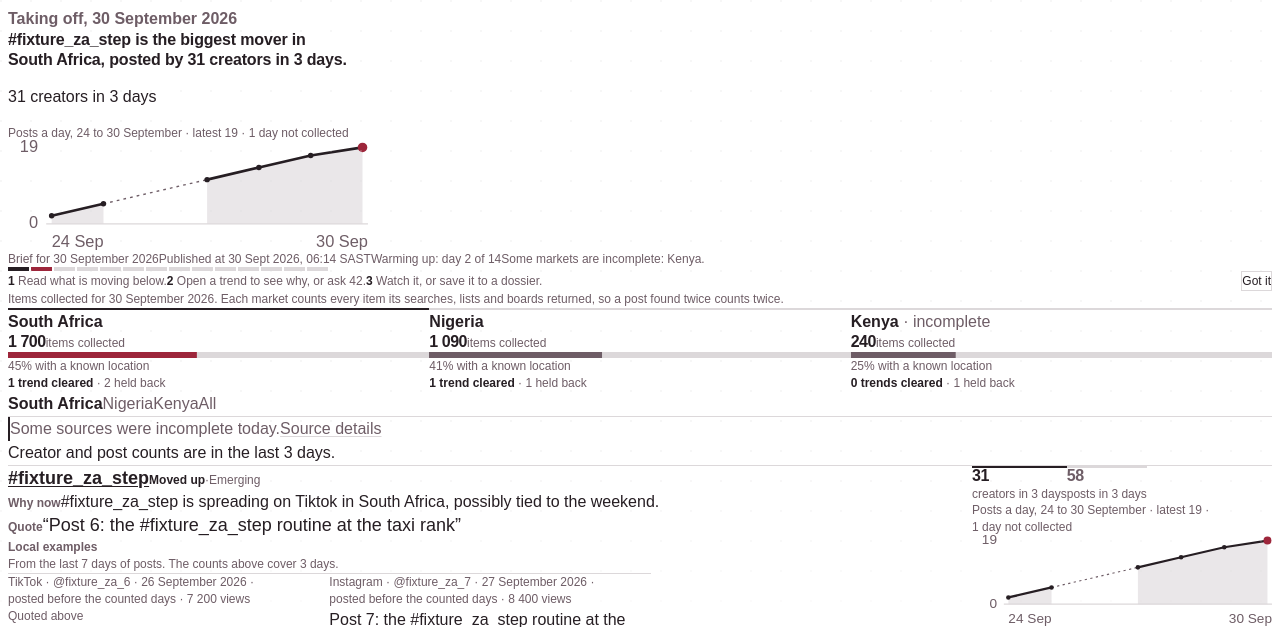
Test case: the poster carries its lead figure and line beside it, and only while it shows
Check: the element with class "t42-lead" is shown, box left=8, top=31, right=368, bottom=251
Check: the element with class "t42-headline" shows "#fixture_za_step is the biggest mover in South Africa, posted by 31 creators in 3 days.", box left=8, top=31, right=347, bottom=68
Click the tab "Nigeria" at coordinates (128, 404), box left=102, top=392, right=153, bottom=416
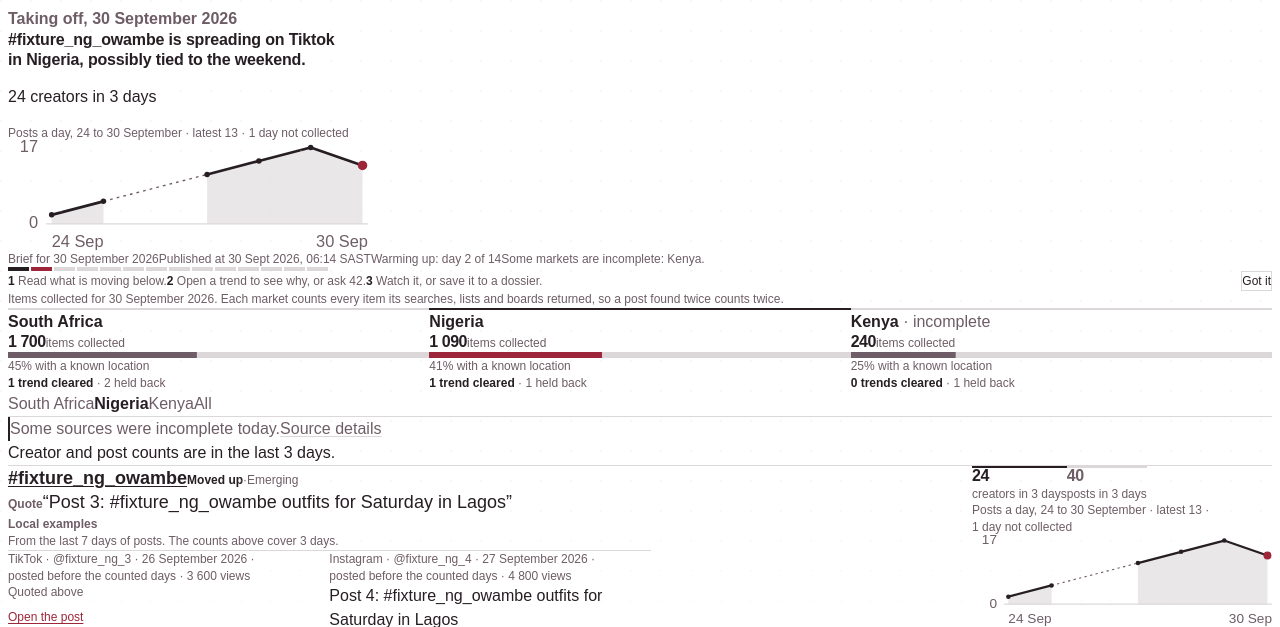
Check: the element with class "t42-headline" shows "#fixture_ng_owambe is spreading on Tiktok in Nigeria, possibly tied to the weekend.", box left=8, top=31, right=335, bottom=68
Check: the element with class "t42-lead-figure" reads "24 creators in 3 days", box left=8, top=88, right=156, bottom=105
Click the tab "Kenya" at coordinates (171, 404), box left=148, top=392, right=194, bottom=416
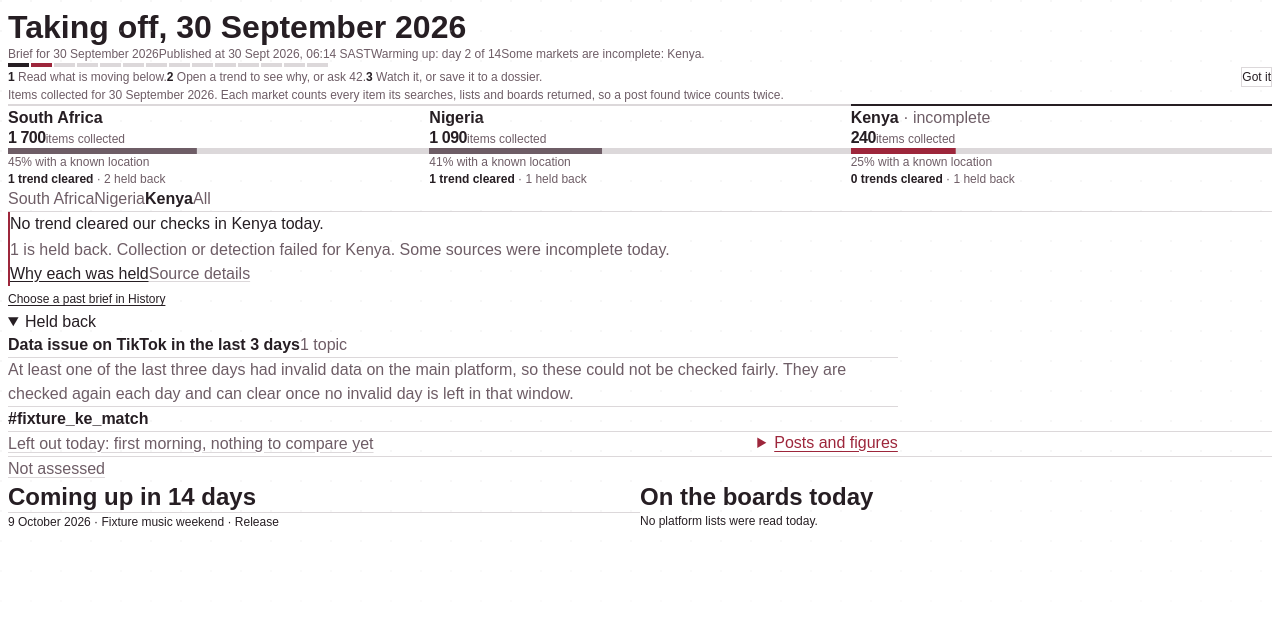
Check: no elements with class "t42-lead-side" are shown
